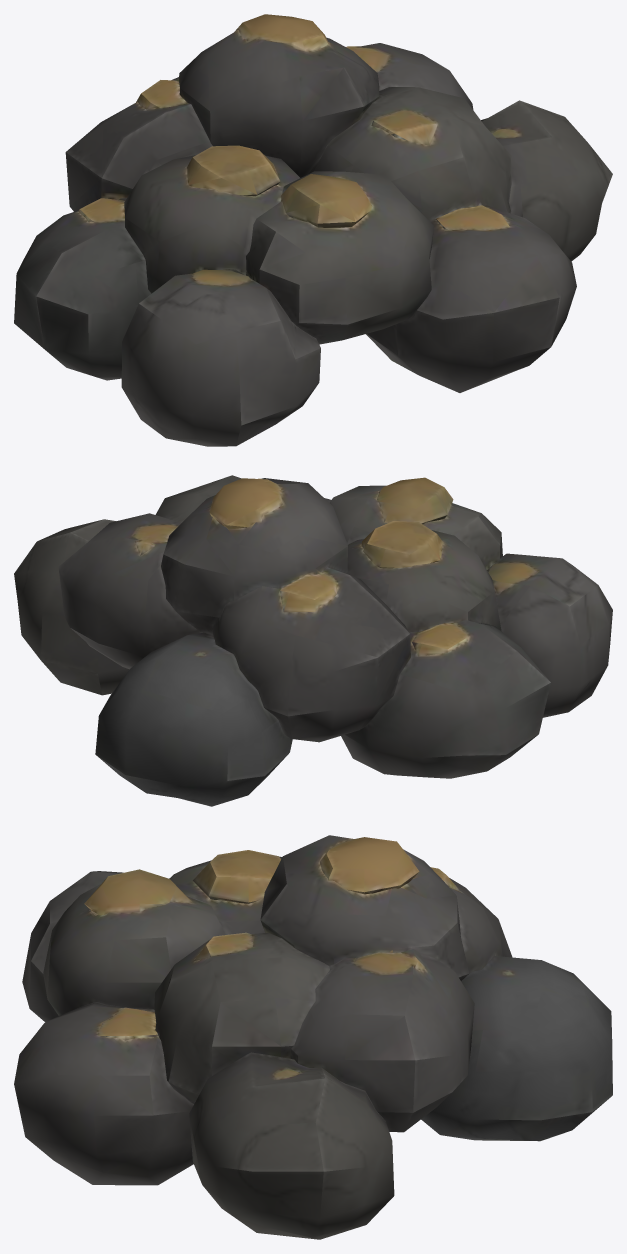
The model's file is ore_pile.glb.
3 renders of one model, top to bottom at view 1: azimuth 30°, elevation 25°; view 2: azimuth 150°, elevation 25°; view 3: azimuth 270°, elevation 25°, orthographic. The views are drawn at different scales.
Parts seen in each view (by area): view 1: ore_pile; view 2: ore_pile; view 3: ore_pile.
Part boxes in pixels (box(x1,y1,x2,y2)): ore_pile: box(14, 14, 612, 446); ore_pile: box(14, 475, 612, 806); ore_pile: box(14, 835, 612, 1239).
Bounding box in the file's own units: 0.7142 × 0.3446 × 0.6337.
Materials: 1 (1 with a texture image).
